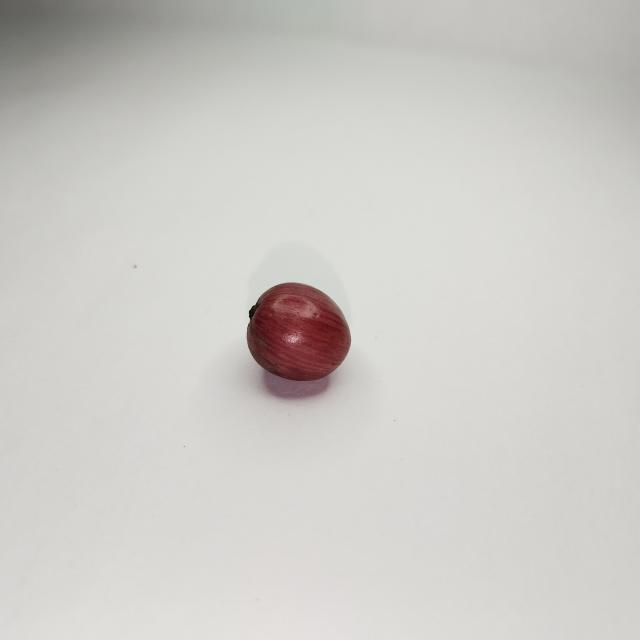Sano: (247, 282, 350, 379)
